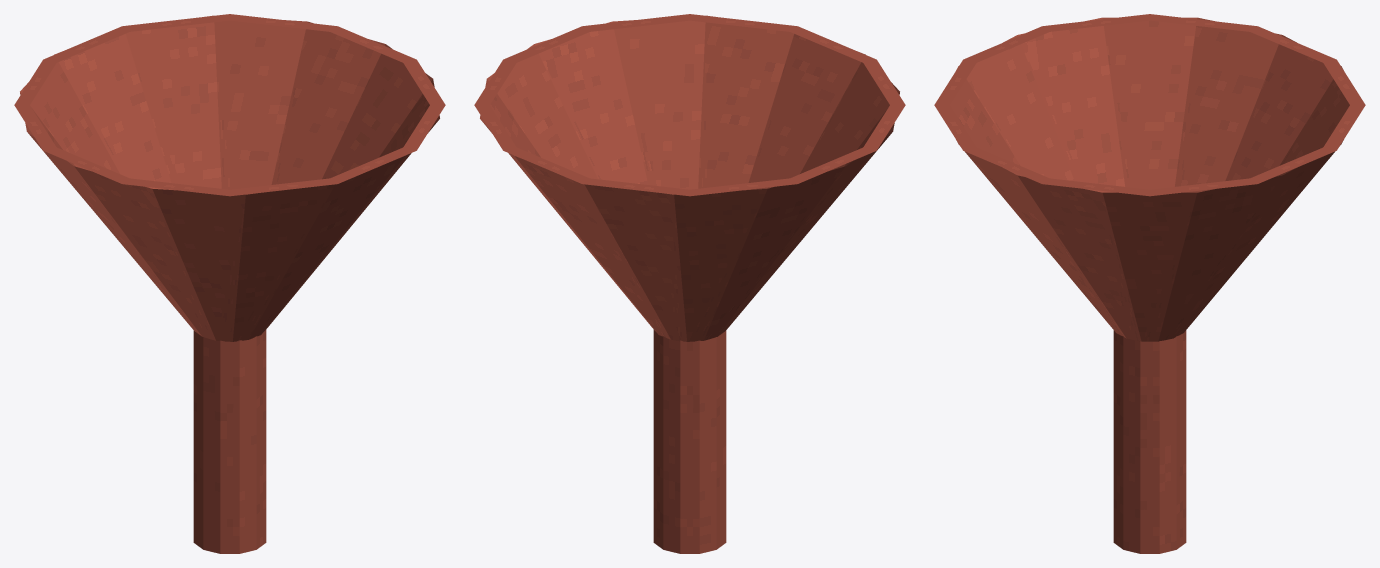
File: funnel.glb
3 views of the same model, side by side, from view 1: azimuth 30°, elevation 25°; view 2: azimuth 150°, elevation 25°; view 3: azimuth 270°, elevation 25° (orthographic).
Parts seen in each view (by area): view 1: block_open cone, block_narrow stem, block_rim 3, block_rim 4, block_rim 9, block_rim 10, block_rim 2, block_rim 5, block_rim 8, block_rim 11, block_rim 0, block_rim 7 (+2 smaller); view 2: block_open cone, block_narrow stem, block_rim 1, block_rim 2, block_rim 7, block_rim 8, block_rim 6, block_rim 9, block_rim 0, block_rim 3, block_rim 4, block_rim 11 (+2 smaller); view 3: block_open cone, block_narrow stem, block_rim 0, block_rim 5, block_rim 6, block_rim 11, block_rim 1, block_rim 10, block_rim 4, block_rim 7, block_rim 3, block_rim 8 (+2 smaller).
Part boxes in pixels (x1=…): block_open cone: x1=20, y1=15, x2=439, y2=341; block_narrow stem: x1=193, y1=329, x2=266, y2=553; block_rim 3: x1=230, y1=178, x2=336, y2=196; block_rim 4: x1=123, y1=178, x2=229, y2=196; block_rim 9: x1=122, y1=14, x2=229, y2=31; block_rim 10: x1=230, y1=14, x2=337, y2=31; block_rim 2: x1=330, y1=147, x2=416, y2=183; block_rim 5: x1=43, y1=147, x2=129, y2=183; block_rim 8: x1=43, y1=26, x2=129, y2=62; block_rim 11: x1=330, y1=26, x2=416, y2=62; block_rim 0: x1=403, y1=59, x2=445, y2=105; block_rim 7: x1=14, y1=59, x2=56, y2=105; block_open cone: x1=480, y1=15, x2=899, y2=341; block_narrow stem: x1=653, y1=329, x2=726, y2=553; block_rim 1: x1=582, y1=14, x2=689, y2=31; block_rim 2: x1=690, y1=14, x2=797, y2=31; block_rim 7: x1=690, y1=178, x2=796, y2=196; block_rim 8: x1=583, y1=178, x2=689, y2=196; block_rim 6: x1=790, y1=147, x2=876, y2=183; block_rim 9: x1=503, y1=147, x2=589, y2=183; block_rim 0: x1=503, y1=26, x2=589, y2=62; block_rim 3: x1=790, y1=26, x2=876, y2=62; block_rim 4: x1=863, y1=59, x2=905, y2=105; block_rim 11: x1=474, y1=59, x2=516, y2=105; block_open cone: x1=950, y1=17, x2=1349, y2=341; block_narrow stem: x1=1113, y1=330, x2=1186, y2=553; block_rim 0: x1=1043, y1=178, x2=1149, y2=196; block_rim 5: x1=1042, y1=14, x2=1149, y2=31; block_rim 6: x1=1150, y1=14, x2=1257, y2=31; block_rim 11: x1=1150, y1=178, x2=1256, y2=196; block_rim 1: x1=963, y1=147, x2=1049, y2=183; block_rim 10: x1=1250, y1=147, x2=1336, y2=183; block_rim 4: x1=963, y1=26, x2=1049, y2=62; block_rim 7: x1=1250, y1=26, x2=1336, y2=62; block_rim 3: x1=934, y1=59, x2=976, y2=105; block_rim 8: x1=1323, y1=59, x2=1365, y2=105.
Size of the model in its own units: 0.138 by 0.153 by 0.138.
2 materials, 2 textured.
